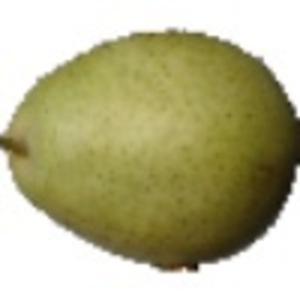pera: (1, 28, 300, 276)
